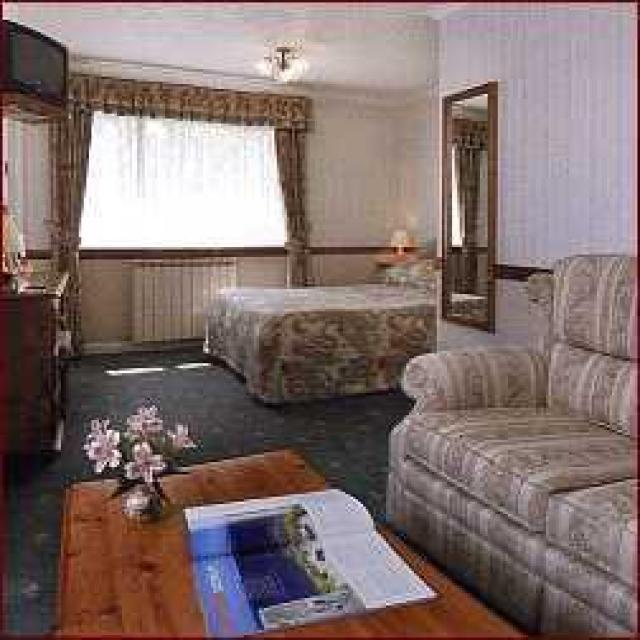bed: (201, 257, 439, 405)
plants: (79, 400, 198, 519)
sofa: (383, 250, 638, 632)
table: (54, 445, 528, 637)
television: (0, 18, 69, 106)
